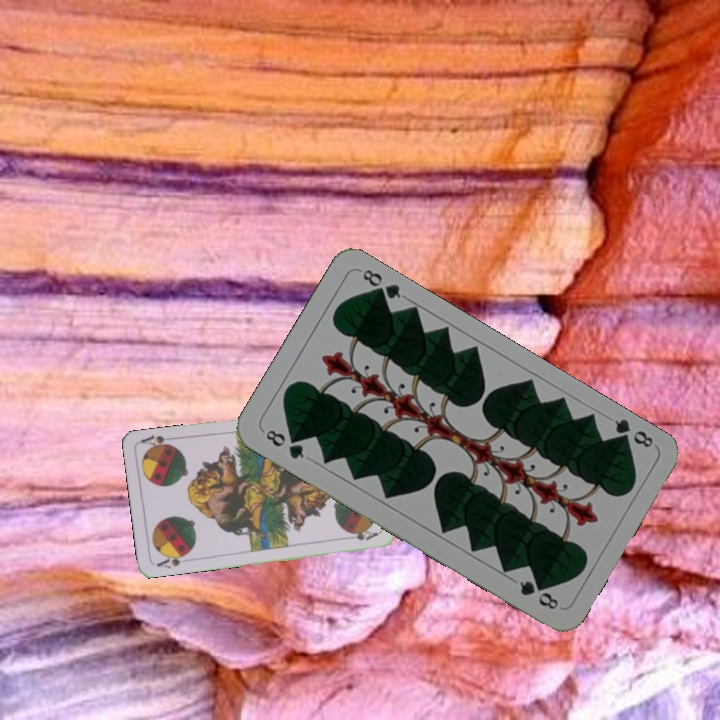G8: (609, 414, 656, 451), (261, 425, 307, 462)
SA: (153, 549, 192, 571)
